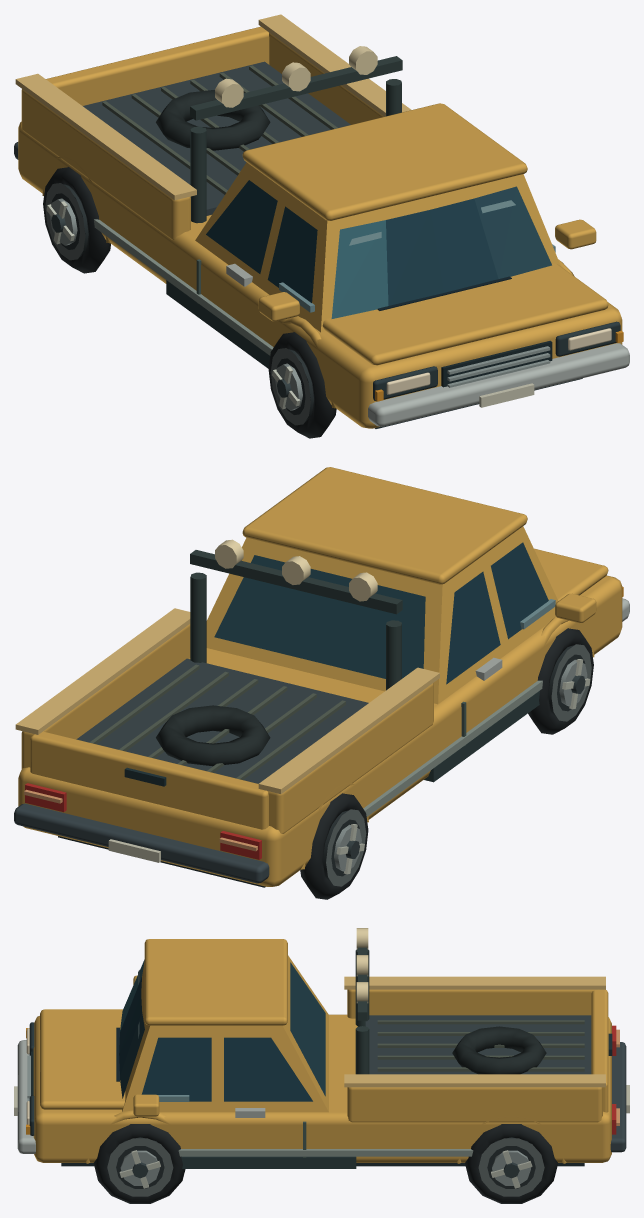
The model's file is pickup.glb.
The picture shows the model from 3 angles, top to bottom: view 1: azimuth 30°, elevation 25°; view 2: azimuth 150°, elevation 25°; view 3: azimuth 270°, elevation 25°; orthographic projection. The views are drawn at different scales.
Visible parts, largest first — view 1: pickup_body; view 2: pickup_body; view 3: pickup_body.
Part boxes in pixels (<box>): pickup_body: <box>14,14,629,438</box>; pickup_body: <box>14,467,629,899</box>; pickup_body: <box>14,928,629,1203</box>.
Size of the model in its own units: 2.39 by 1.68 by 4.76.
